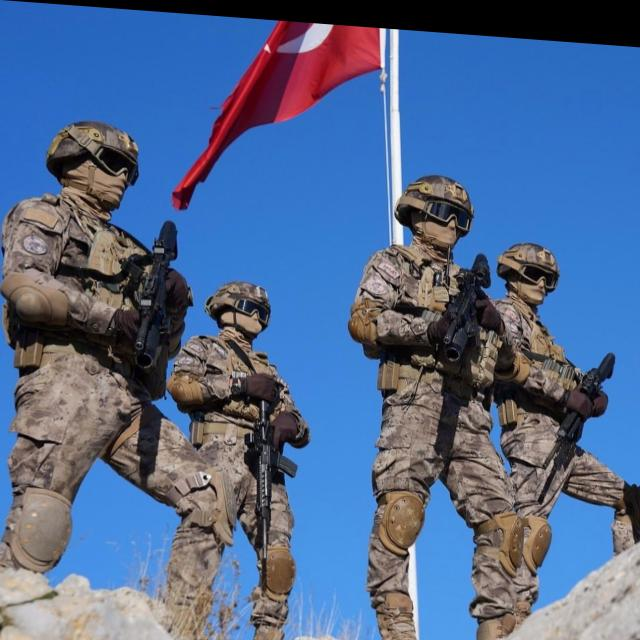poh_personel: (0, 113, 230, 640), (345, 164, 522, 640), (498, 230, 639, 632), (168, 273, 306, 640)
